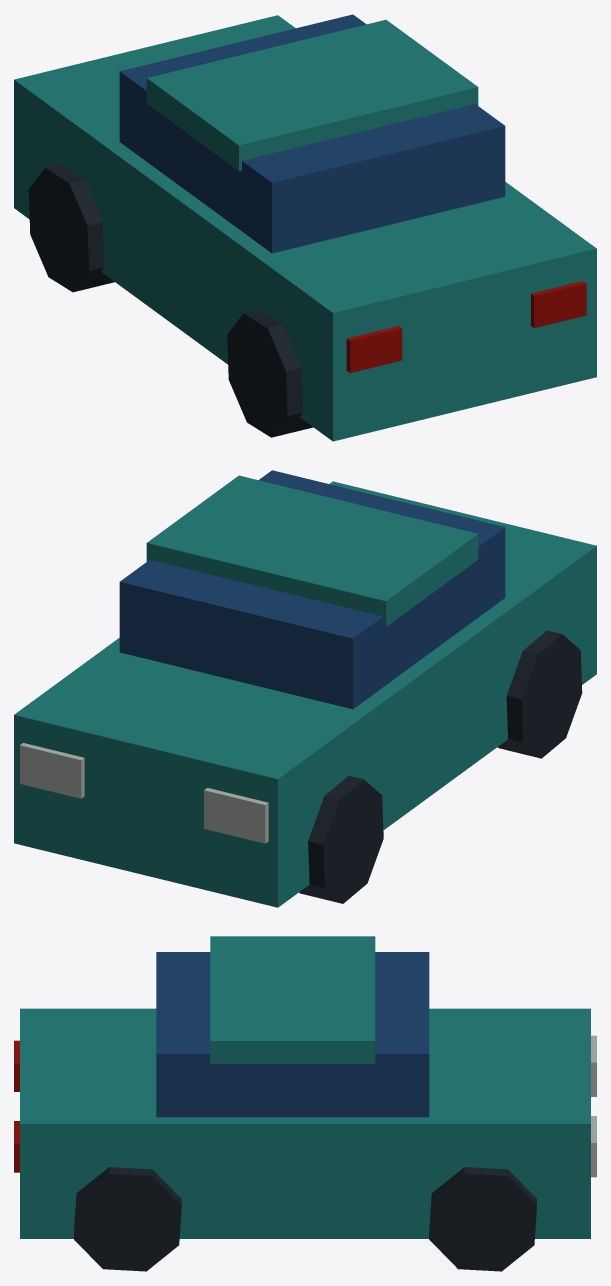
The model's file is car-teal.glb.
3 renders of one model, top to bottom at view 1: azimuth 30°, elevation 25°; view 2: azimuth 150°, elevation 25°; view 3: azimuth 270°, elevation 25°, orthographic. The views are drawn at different scales.
Parts seen in each view (by area): view 1: car-teal; view 2: car-teal; view 3: car-teal.
Boxes of the visible parts, bbox=[...] form: car-teal: bbox=[14, 14, 596, 441]; car-teal: bbox=[14, 470, 596, 907]; car-teal: bbox=[14, 936, 596, 1271].
Bounding box in the file's own units: 4.8 × 3.8 × 9.19.
